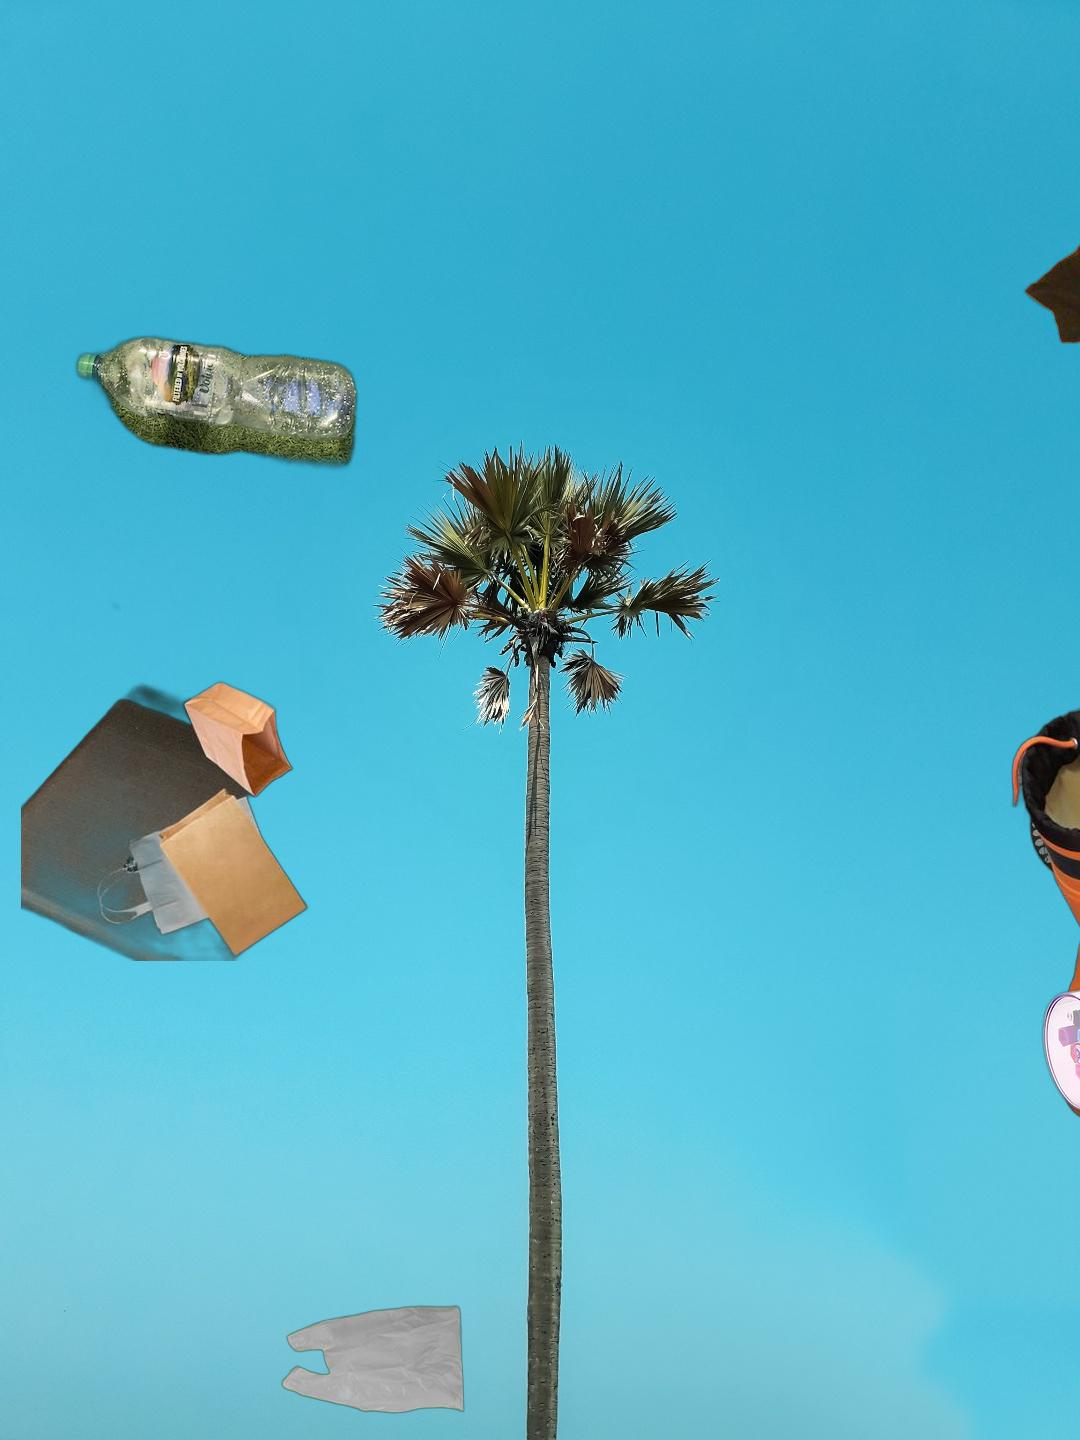clothes: (1023, 210, 1080, 590)
paper-bag: (22, 678, 317, 962)
penholder: (1037, 687, 1080, 1162)
plastic-bag: (280, 1303, 466, 1416)
plastic-bottles: (73, 330, 361, 474)
shoes: (985, 695, 1080, 1128)
